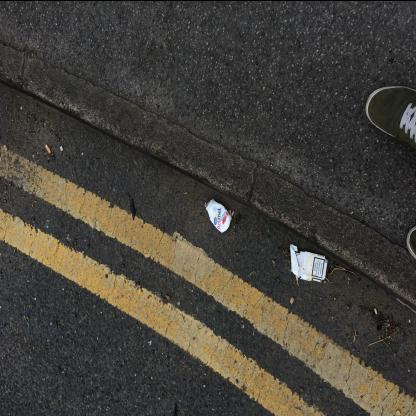karton: (291, 244, 329, 284)
plastik: (207, 199, 233, 233)
